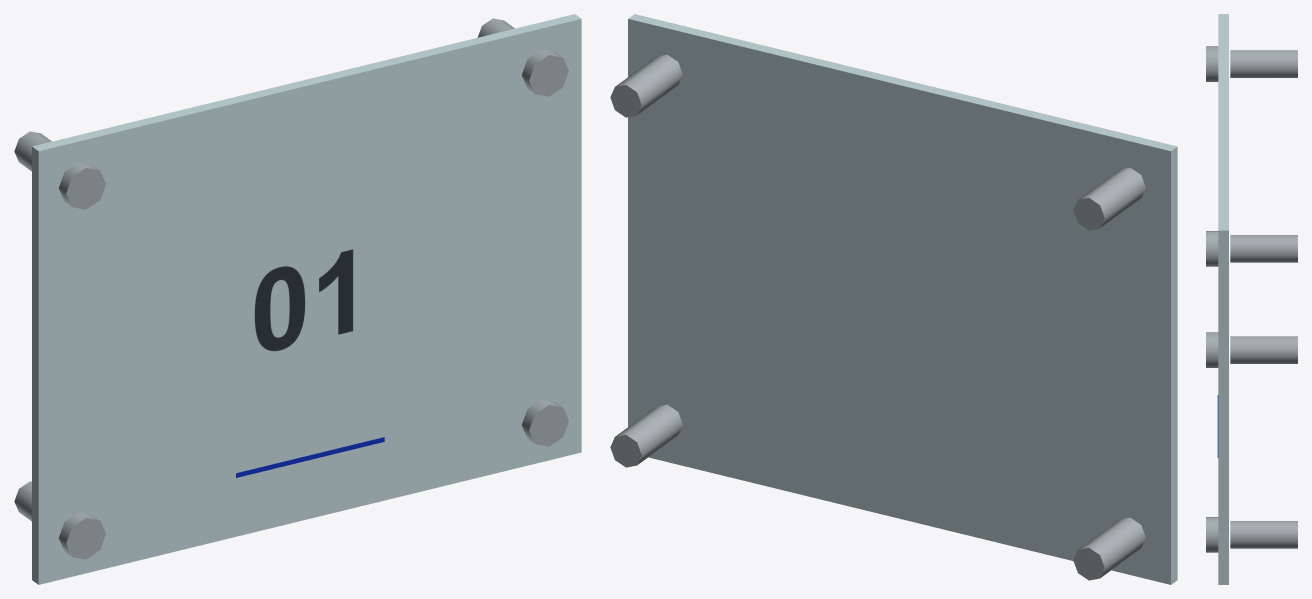
The model's file is doorPlaque-1.glb.
3 renders of one model, left to right at view 1: azimuth 30°, elevation 25°; view 2: azimuth 150°, elevation 25°; view 3: azimuth 270°, elevation 25°, orthographic. The views are drawn at different scales.
Visible parts, largest first — view 1: doorPlaque_PMMA editor body, doorPlaque_Satin stainless standoff, DoorPlaque_Label, doorPlaque_EDS selected finish; view 2: doorPlaque_PMMA editor body, doorPlaque_Satin stainless standoff; view 3: doorPlaque_Satin stainless standoff, doorPlaque_PMMA editor body.
Part boxes in pixels (bbox=[...]): doorPlaque_PMMA editor body: bbox=[32, 14, 581, 584]; doorPlaque_Satin stainless standoff: bbox=[14, 18, 568, 559]; DoorPlaque_Label: bbox=[254, 249, 353, 351]; doorPlaque_EDS selected finish: bbox=[236, 437, 384, 477]; doorPlaque_PMMA editor body: bbox=[628, 14, 1177, 584]; doorPlaque_Satin stainless standoff: bbox=[610, 54, 1145, 580]; doorPlaque_Satin stainless standoff: bbox=[1206, 46, 1297, 552]; doorPlaque_PMMA editor body: bbox=[1218, 14, 1228, 584].
Size of the model in its own units: 0.19 by 0.145 by 0.034.
Materials: 4 (1 with a texture image).
